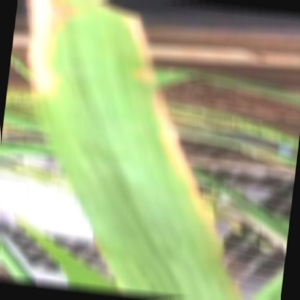Leaf_Blast: (19, 0, 146, 191)
